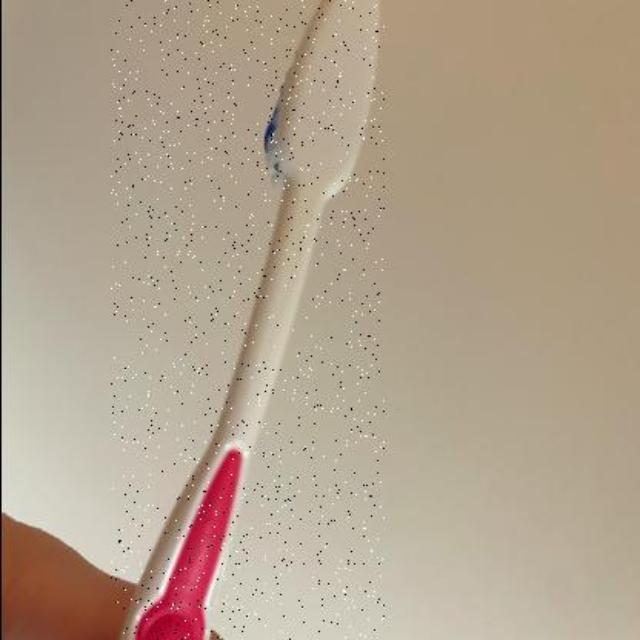toothbrush: (110, 0, 382, 640)
